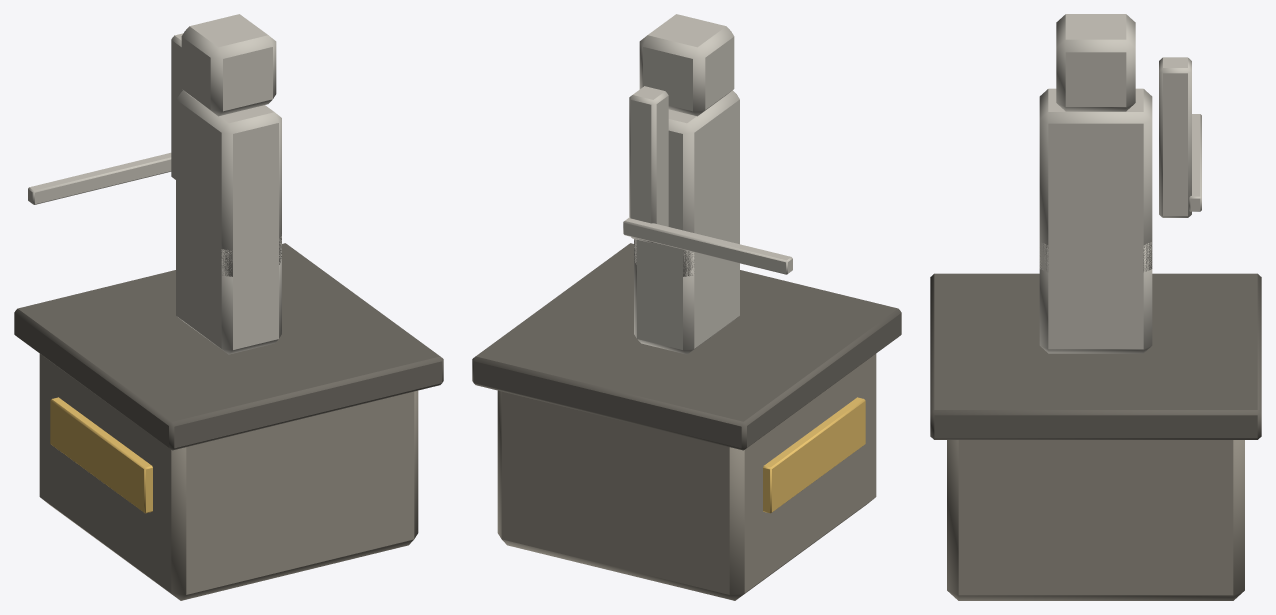
Rendered from statue.glb.
3 views of the same model, side by side, from view 1: azimuth 30°, elevation 25°; view 2: azimuth 150°, elevation 25°; view 3: azimuth 270°, elevation 25° (orthographic). The views are drawn at different scales.
Visible parts, largest first — view 1: building; view 2: building; view 3: building.
Part boxes in pixels (x1=…): building: x1=14, y1=14, x2=443, y2=600; building: x1=472, y1=14, x2=901, y2=600; building: x1=930, y1=14, x2=1261, y2=600.
Size of the model in its own units: 1.05 by 1.72 by 1.
